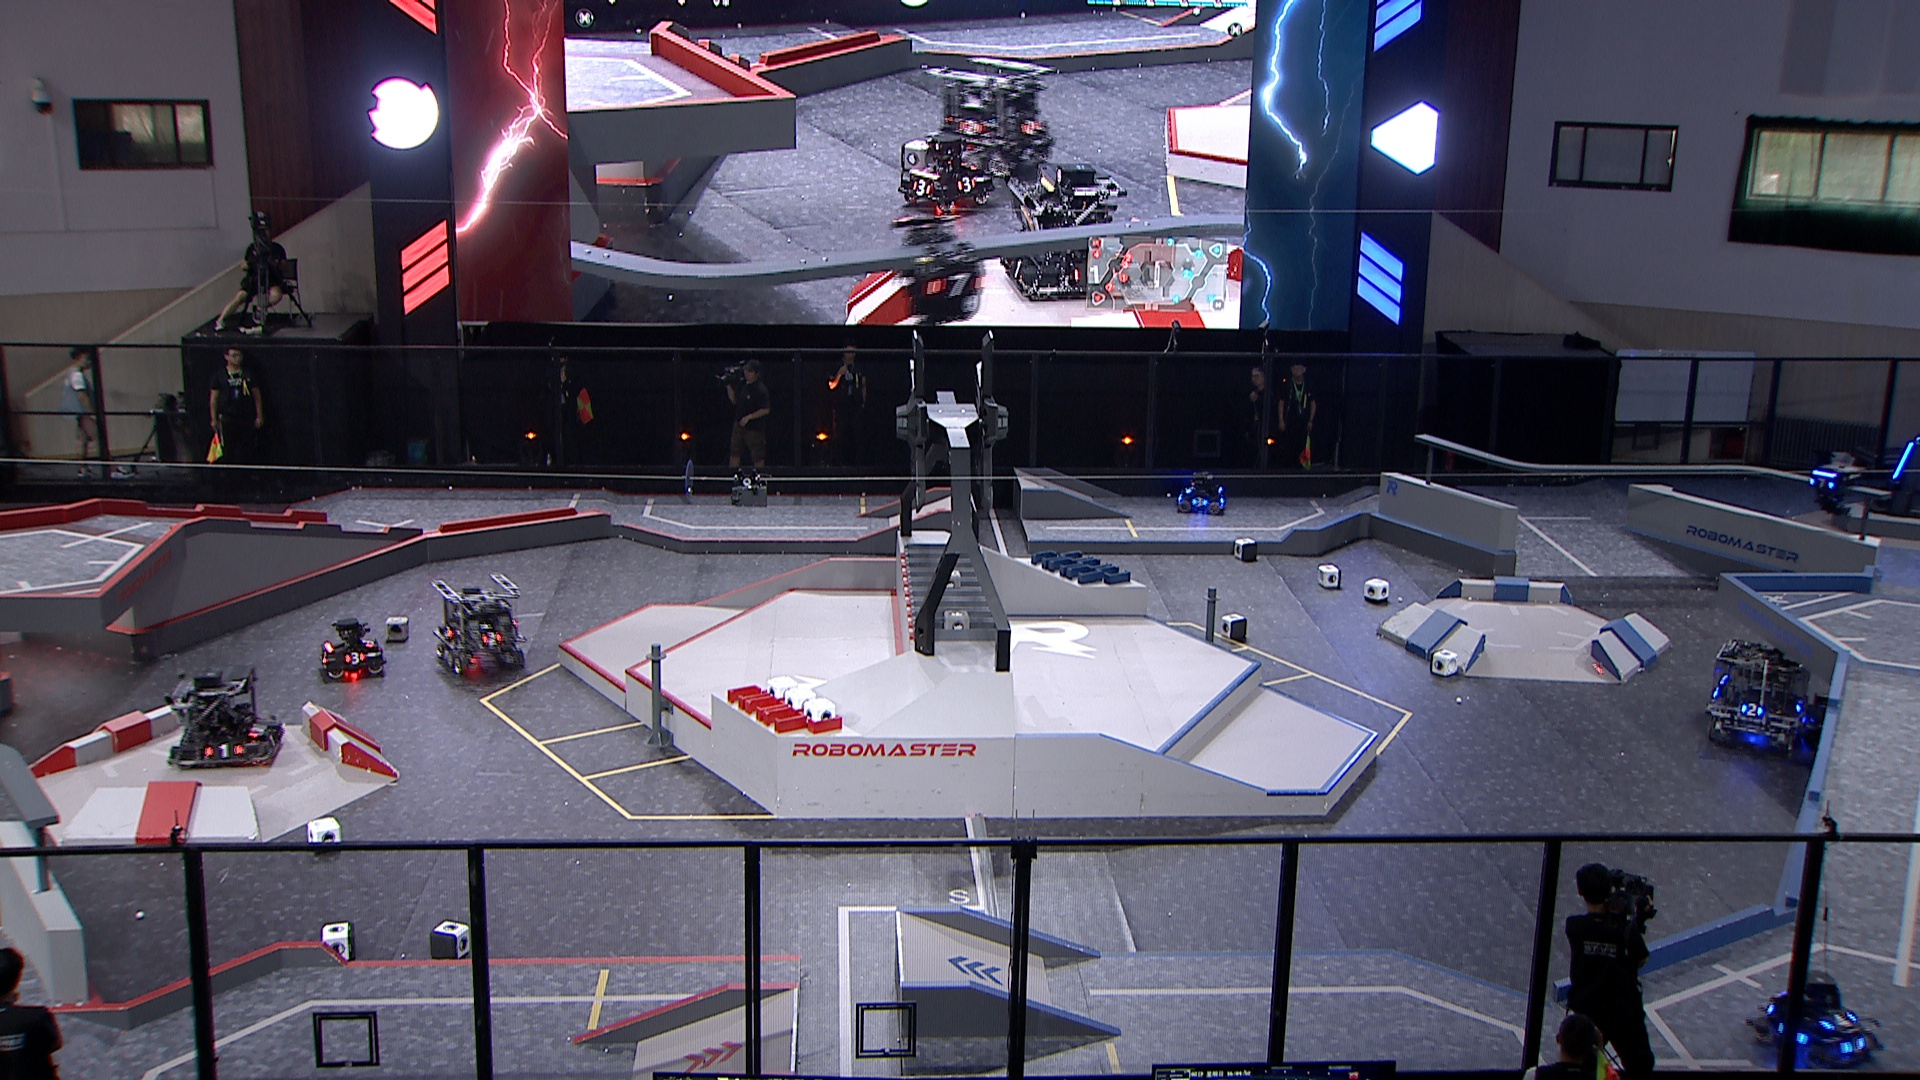armor: (1821, 1007, 1859, 1033), (1894, 442, 1915, 480), (204, 741, 245, 760), (1840, 1035, 1870, 1058), (1808, 477, 1836, 495), (480, 629, 502, 647), (1741, 702, 1766, 717), (262, 733, 282, 752), (343, 651, 367, 666), (1189, 495, 1211, 510), (247, 723, 266, 738), (1793, 699, 1809, 717), (359, 636, 377, 650), (440, 622, 455, 640)
base: (1866, 434, 1920, 524)
car: (1745, 972, 1883, 1069), (1704, 636, 1812, 757), (166, 669, 286, 765), (433, 571, 527, 676), (1803, 674, 1890, 766), (320, 618, 390, 679), (1176, 471, 1229, 518)
ignore: (996, 160, 1134, 301), (922, 55, 1058, 179), (887, 208, 984, 328), (897, 135, 996, 215)
watcher: (1807, 465, 1861, 520)
